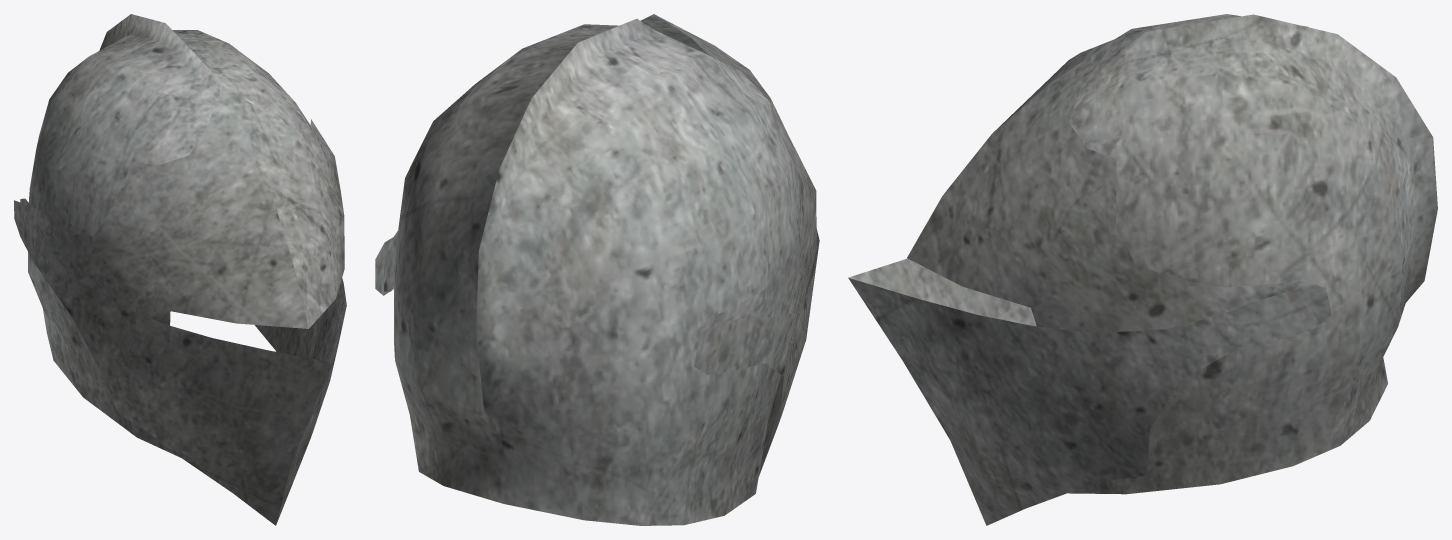
The model's file is Helmet.fbx.
The picture shows the model from 3 angles, left to right: view 1: azimuth 30°, elevation 25°; view 2: azimuth 150°, elevation 25°; view 3: azimuth 270°, elevation 25°; orthographic projection. The views are drawn at different scales.
Parts seen in each view (by area): view 1: Helmet; view 2: Helmet; view 3: Helmet.
Part boxes in pixels (box(x1,y1,x2,y2)): Helmet: box(14, 14, 346, 525); Helmet: box(375, 14, 819, 525); Helmet: box(848, 14, 1437, 525).
Bounding box in the file's own units: 27.87 × 42.31 × 44.23.
